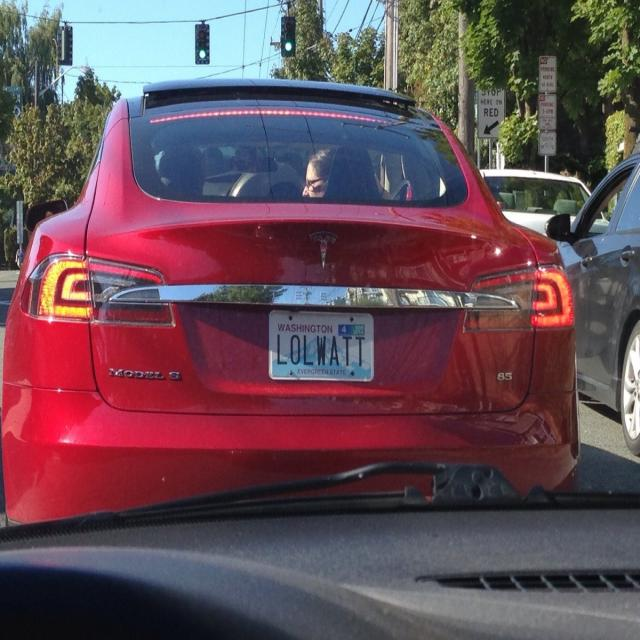Number-Plate: (267, 313, 374, 384)
